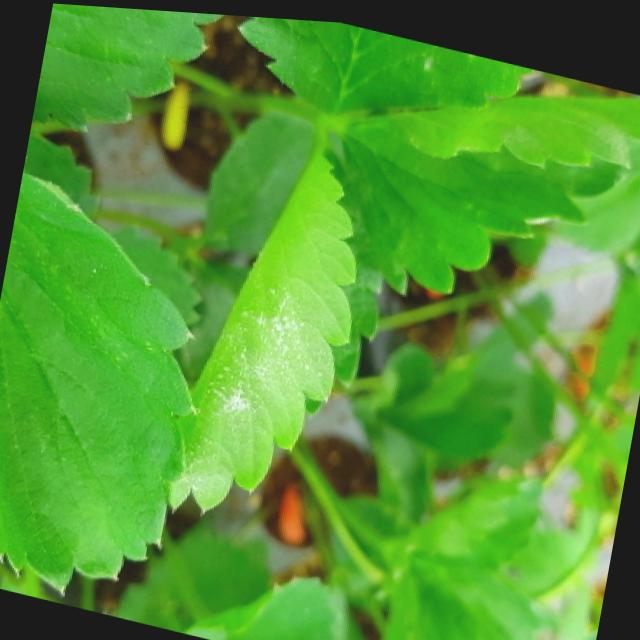Powdery Mildew Leaf: (168, 130, 378, 512), (237, 13, 534, 115), (30, 3, 222, 131)
